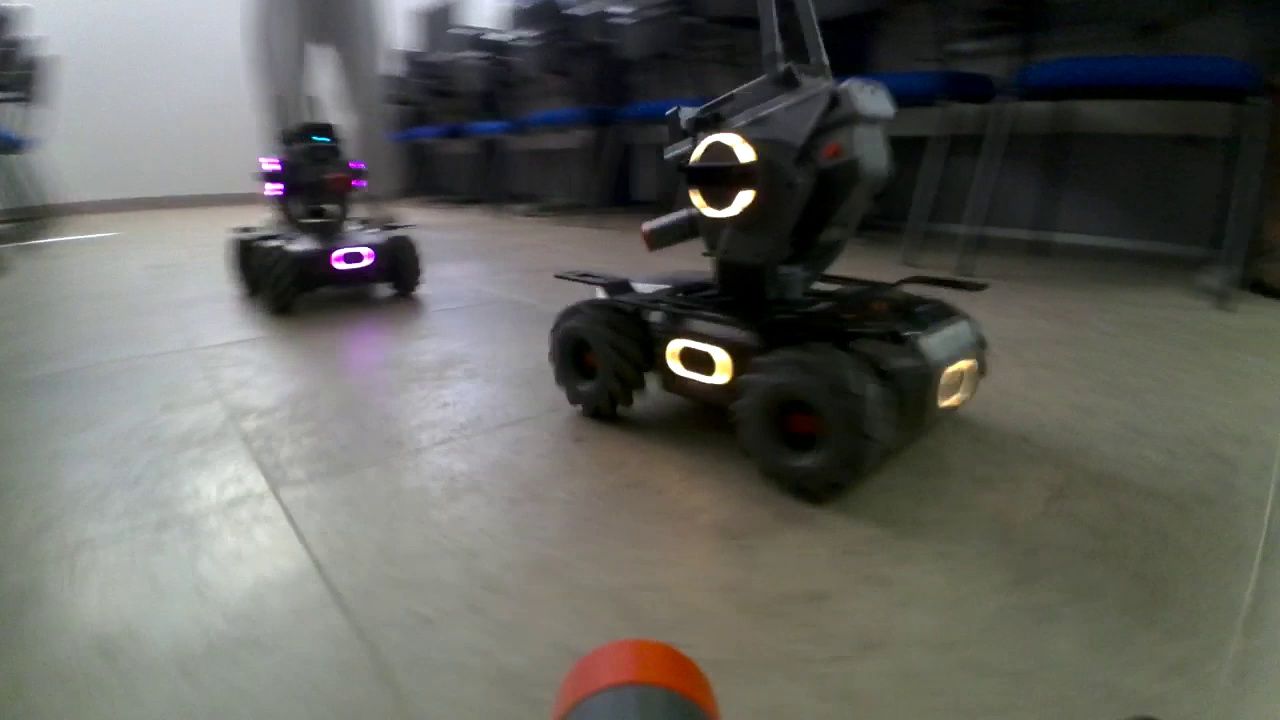robot: (541, 1, 990, 502), (225, 94, 422, 302)
